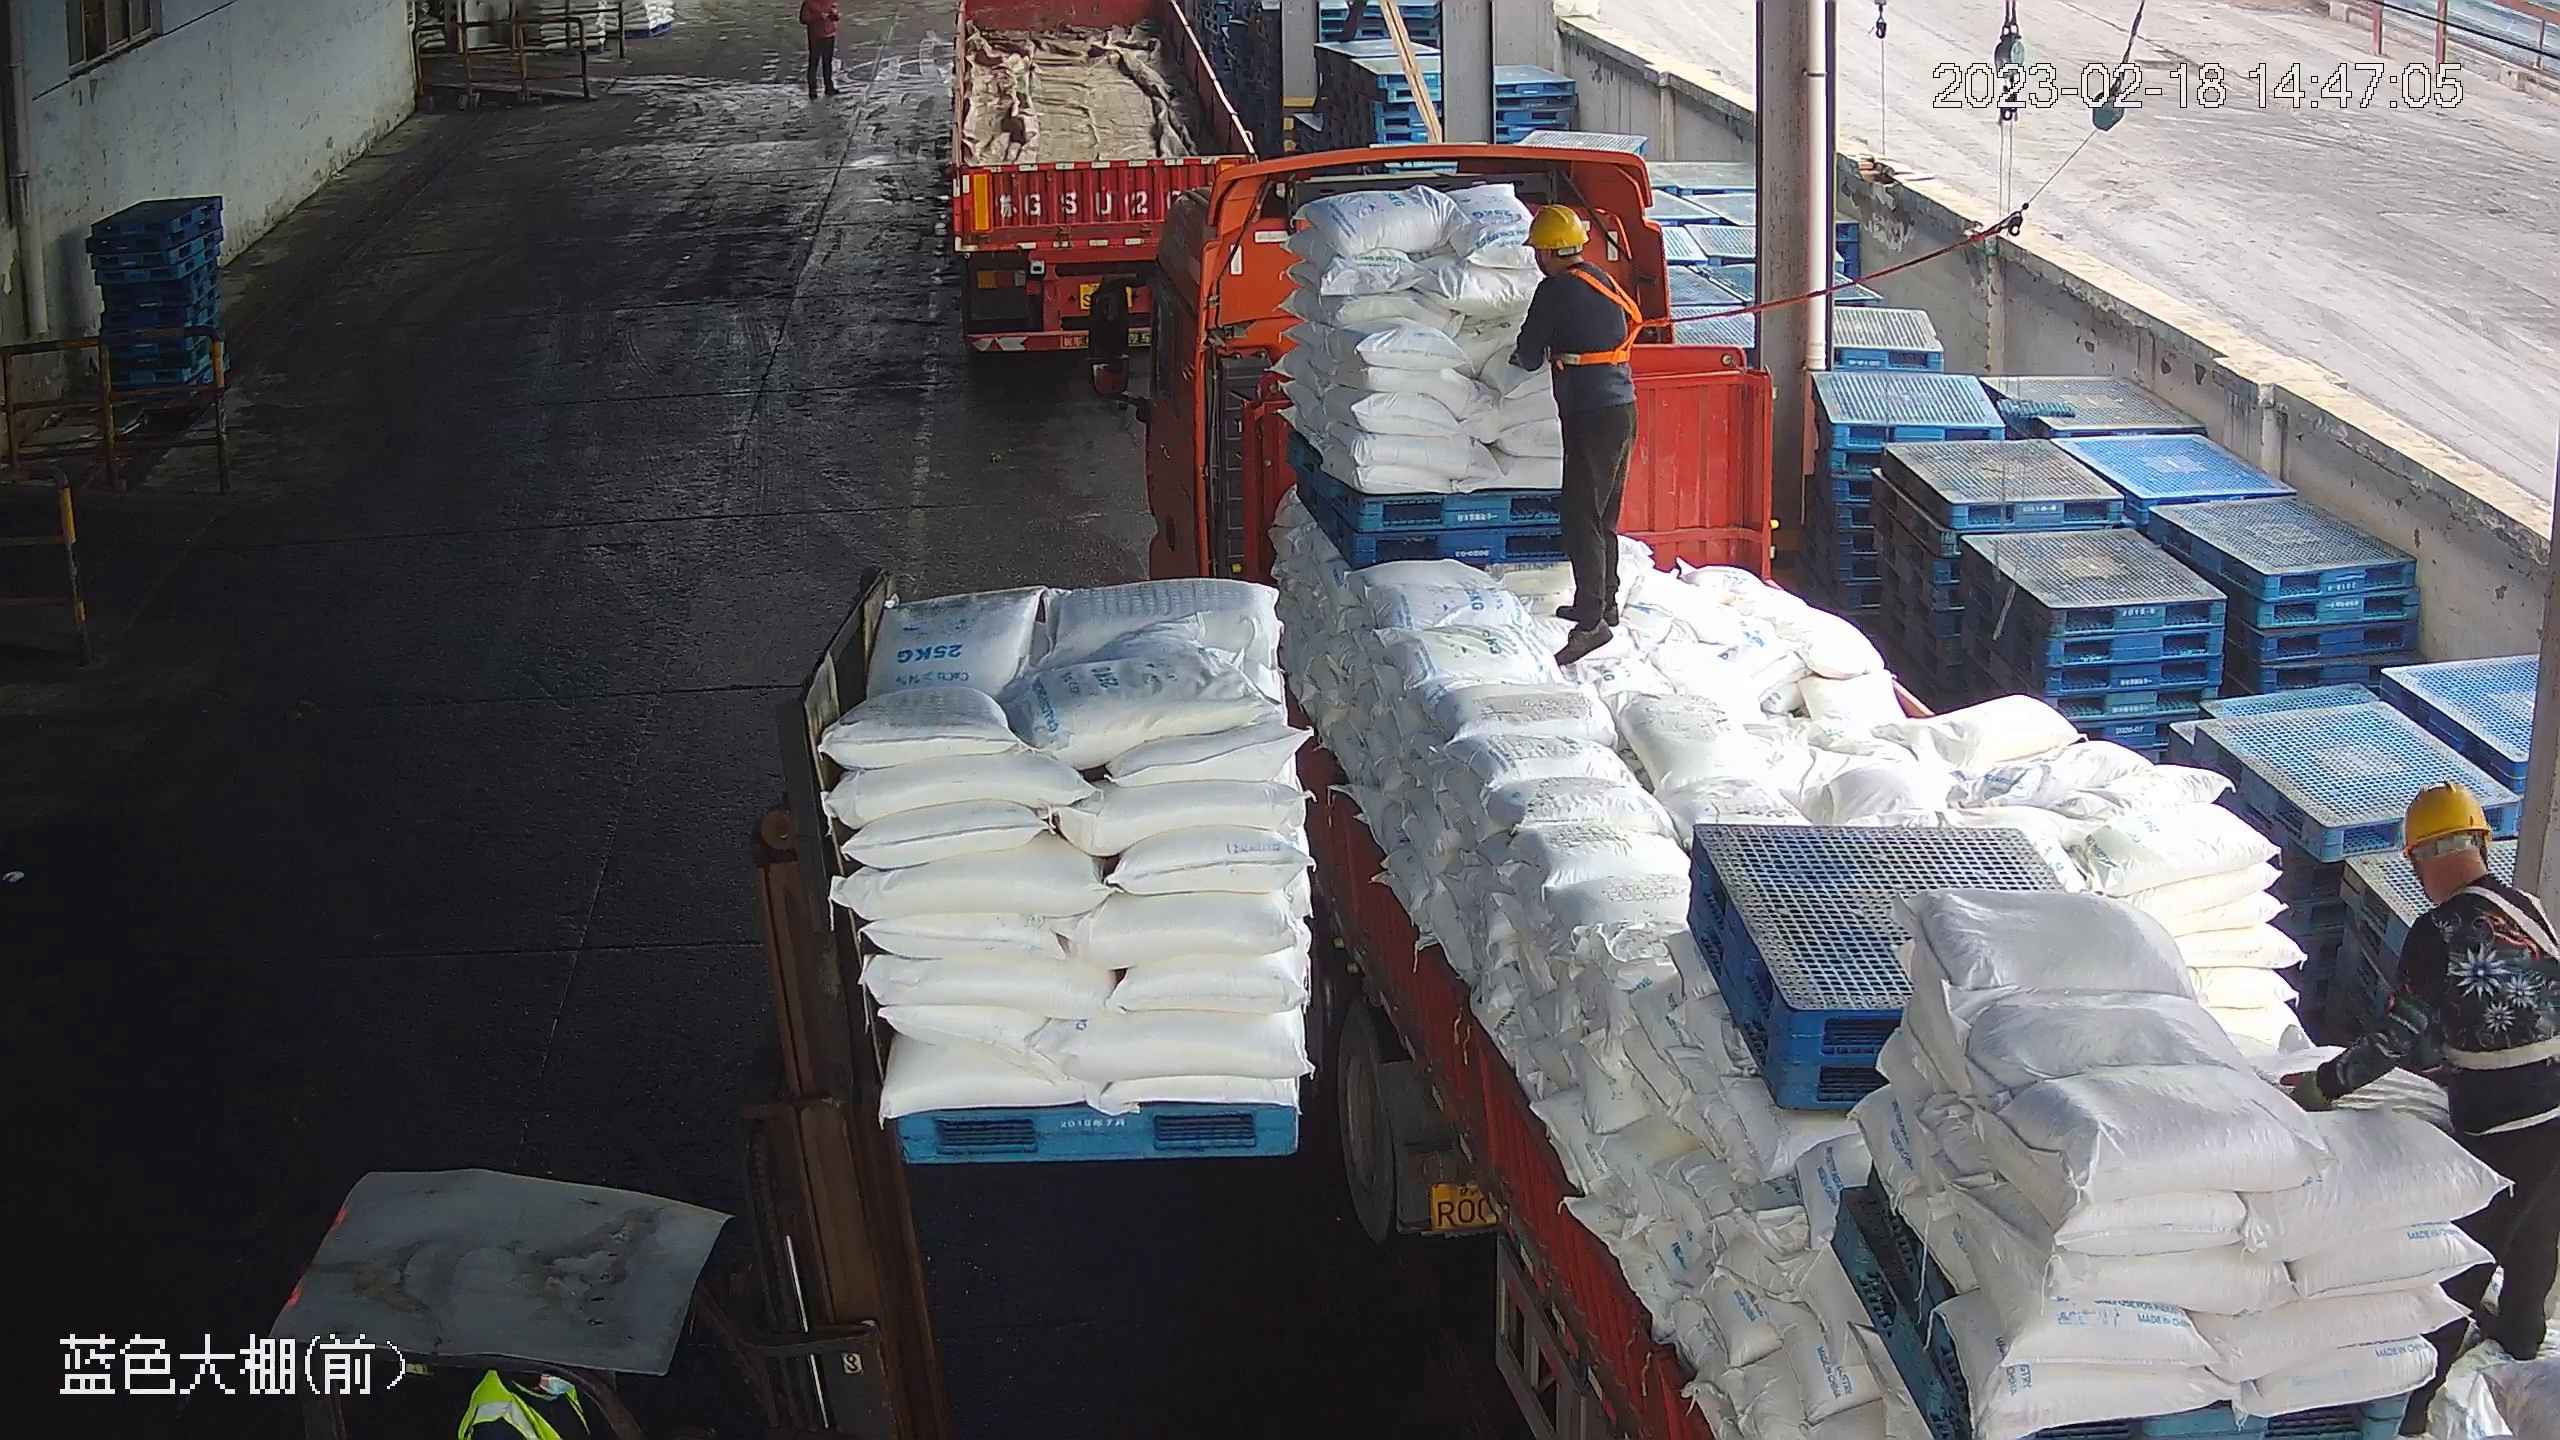belt: (2440, 885, 2560, 1074), (1558, 264, 1654, 371)
head: (2388, 779, 2555, 970), (1518, 199, 1640, 330)
helmet: (2391, 778, 2493, 860), (1519, 199, 1590, 252)
people: (2274, 776, 2560, 1433), (1503, 198, 1648, 663)
truck: (1091, 141, 2556, 1439), (946, 4, 1263, 357)
